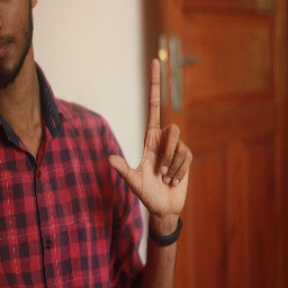L: (106, 58, 192, 211)
